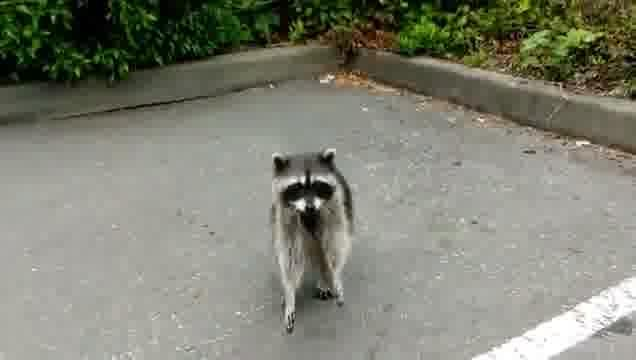raccoon: (258, 147, 365, 338)
